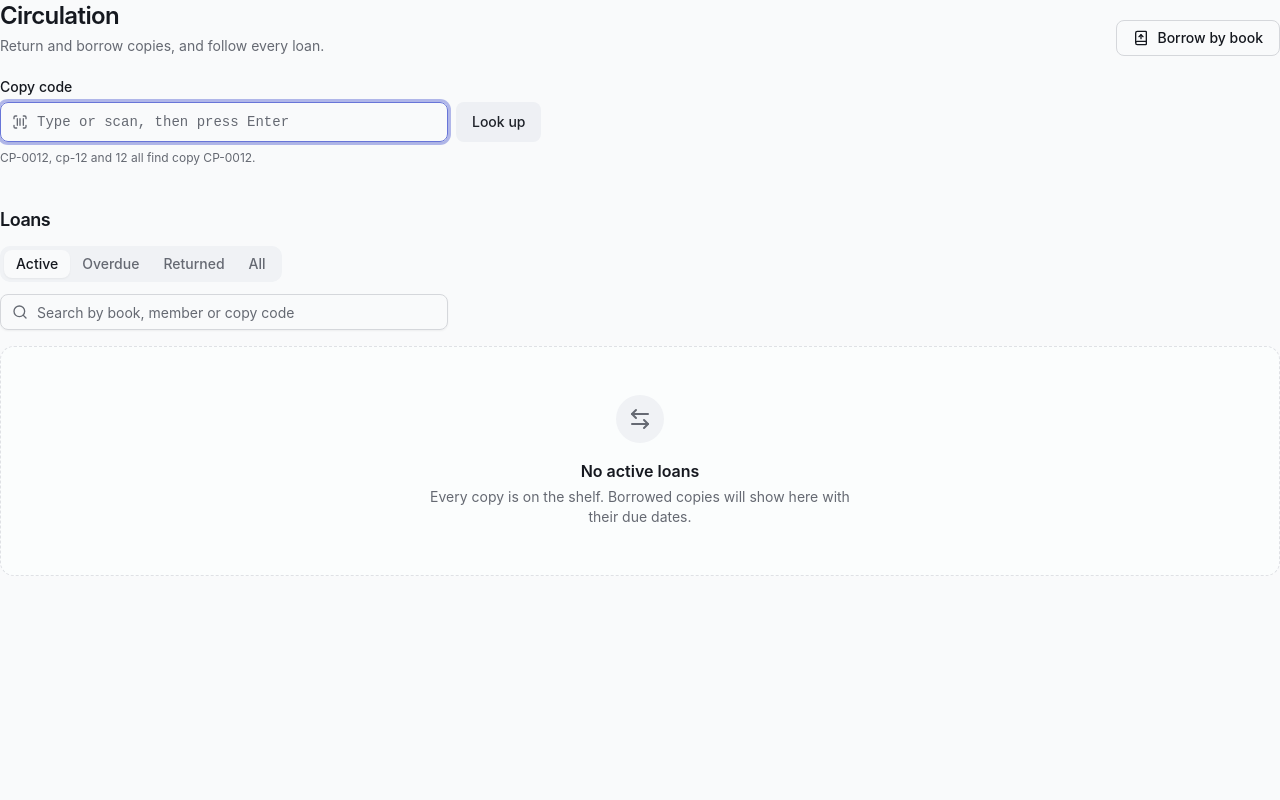
Test: CirculationPage: the copy-code box › offers Borrow for an available copy and opens the borrow dialog with that copy chosen
The image size is (1280, 800).
Type "3" into the field labelled "Copy code".
click(224, 122); type("3")  # box [0,102,448,142]
Then press Enter
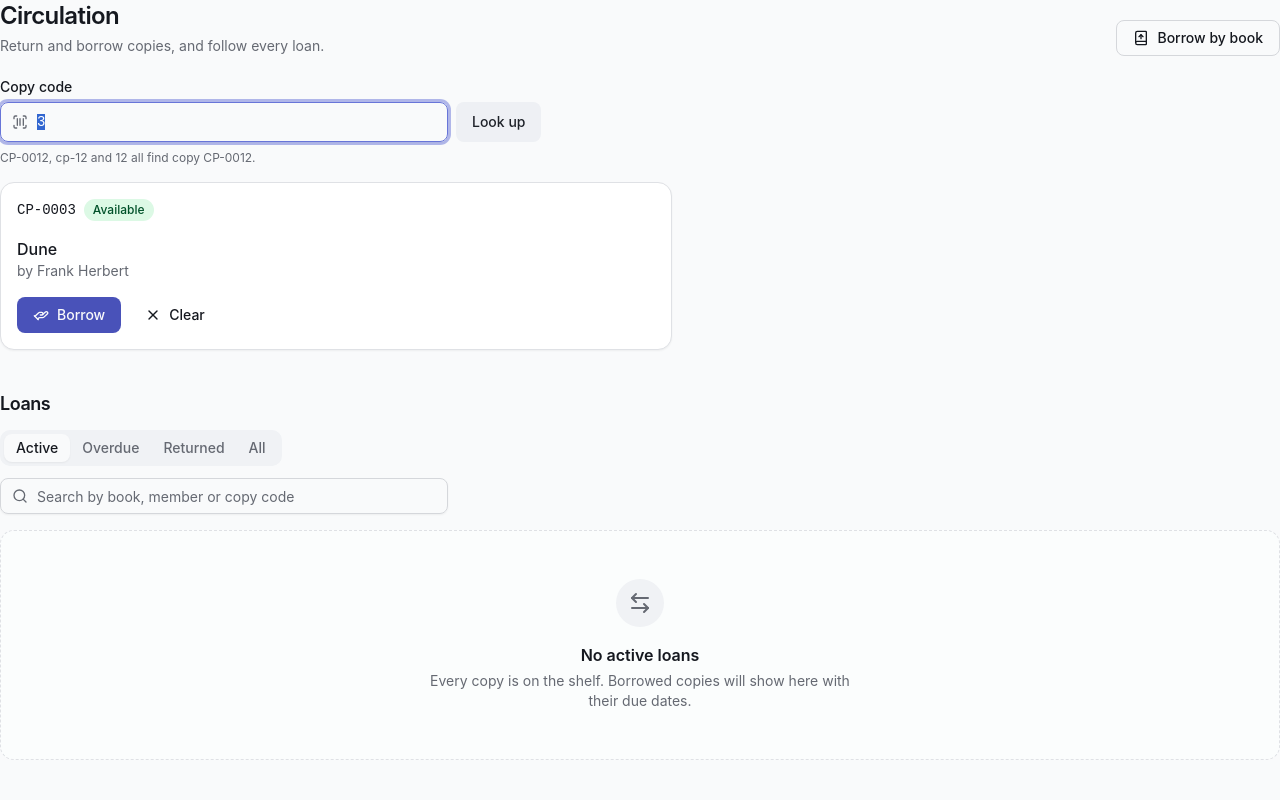
Result: the text "Available" is shown at [84,199,154,221]
Click the button "Borrow".
click(69, 315)  # box [17,297,121,333]
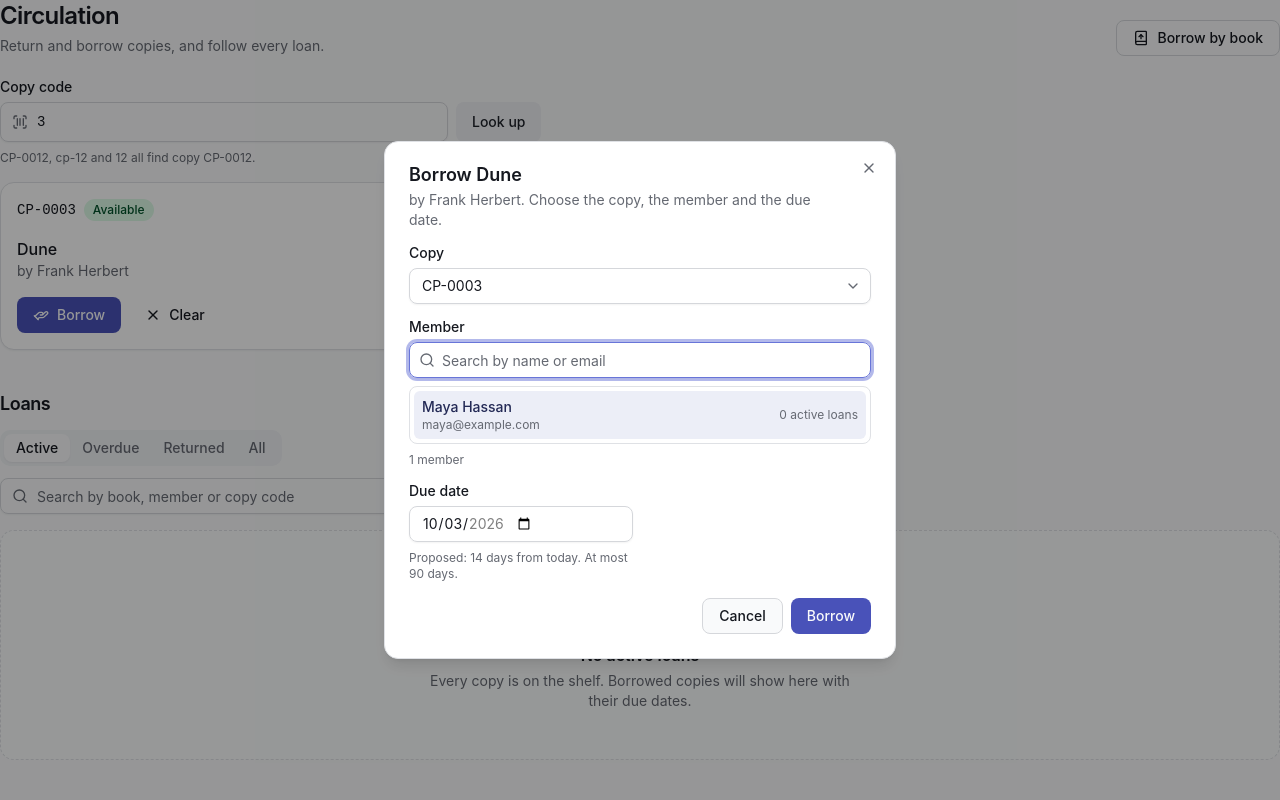
Result: the dropdown labelled "Copy" shows "CP-0003" at [409,268,871,304]
